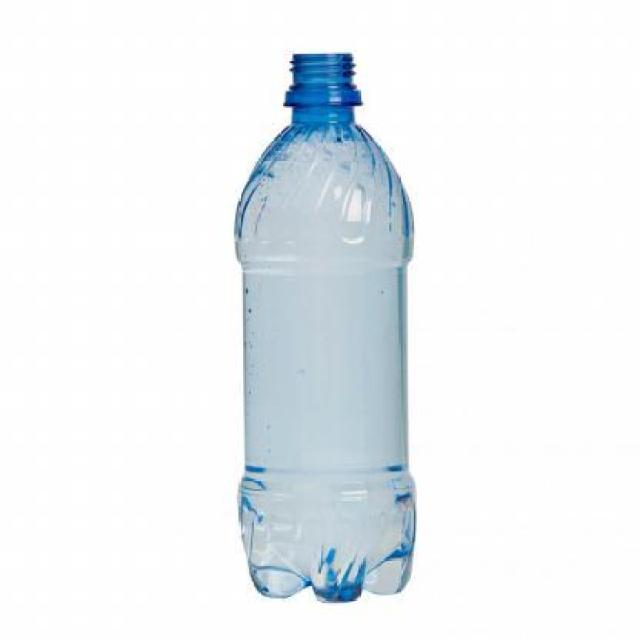bottle: (234, 51, 420, 602)
